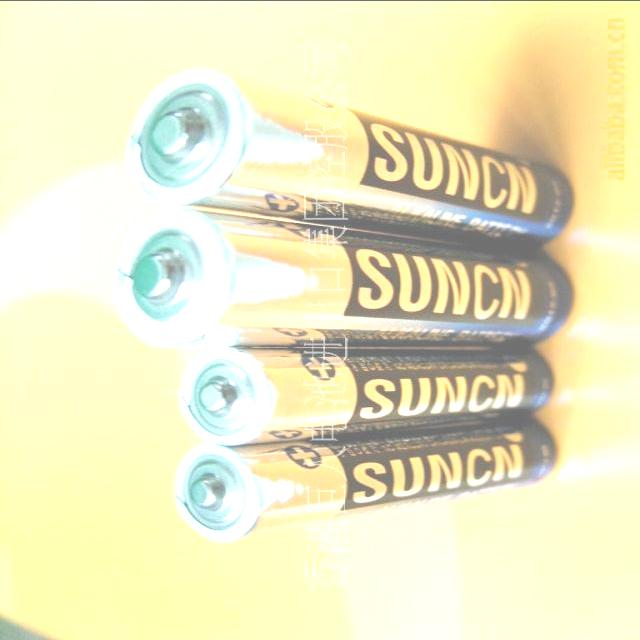AA: (112, 70, 570, 240), (108, 225, 574, 358)
AAA: (174, 423, 568, 541), (162, 348, 562, 436)
